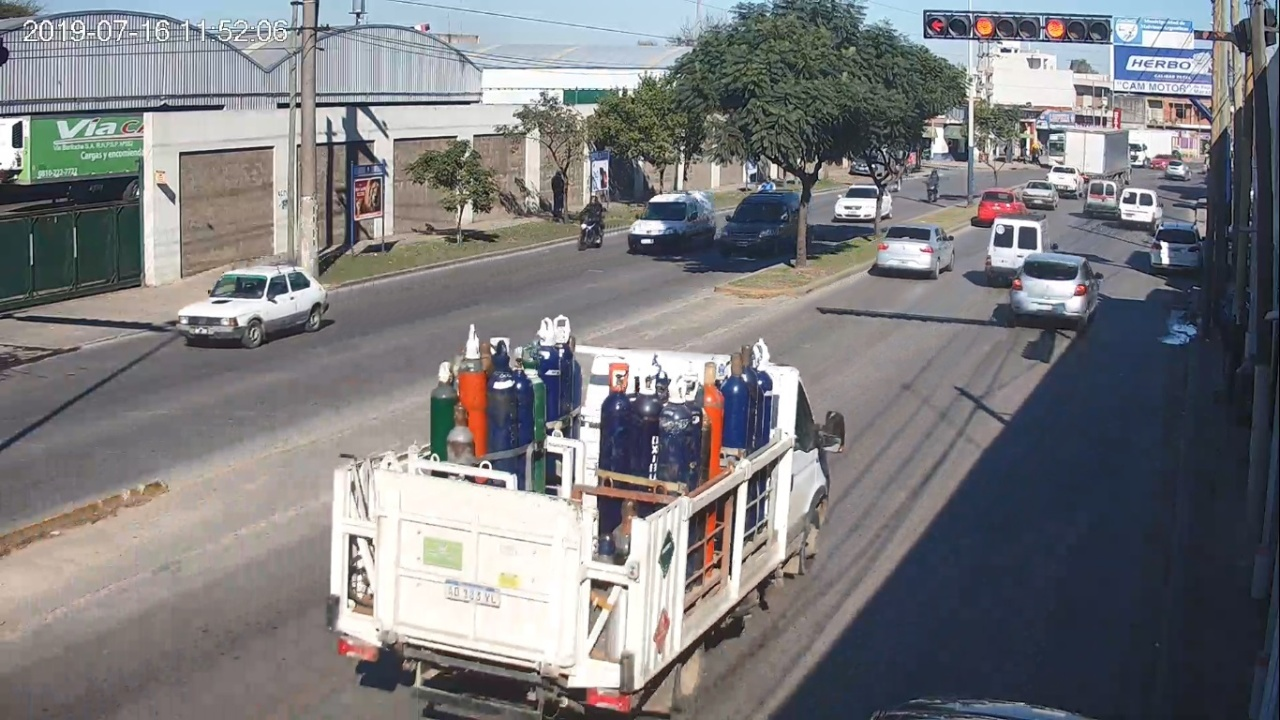car: (1009, 255, 1105, 330), (877, 223, 956, 280)
front car: (177, 266, 329, 348)
traffic light: (973, 12, 1110, 44)
truck: (325, 346, 848, 720)
